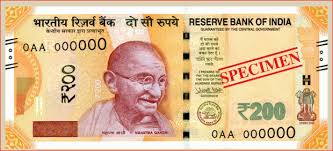twoHundred: (30, 31, 311, 126)
